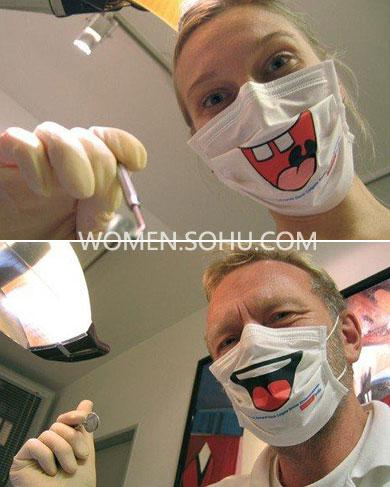OK: (179, 28, 364, 213), (203, 289, 357, 443)
